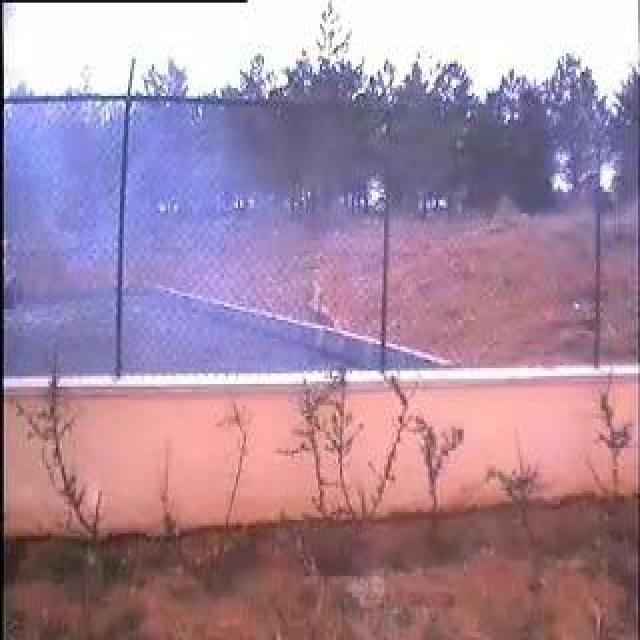Smoke: (40, 120, 262, 352)
